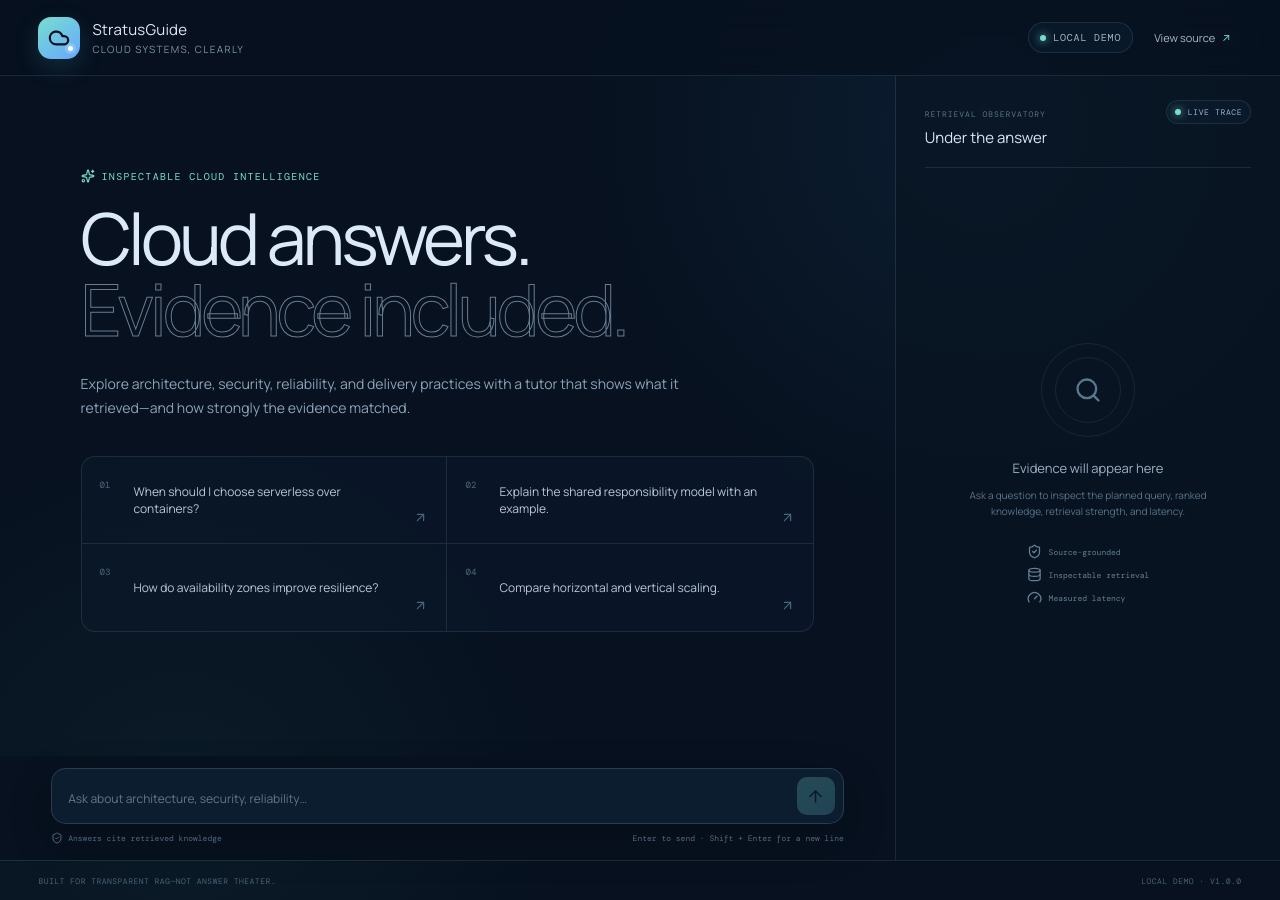
Test: StratusGuide › surfaces a safe API error without losing the conversation
Type "How should I design retries?" into the text box named "cloud computing question" at (428, 799), box x1=68 y1=783 x2=787 y2=815
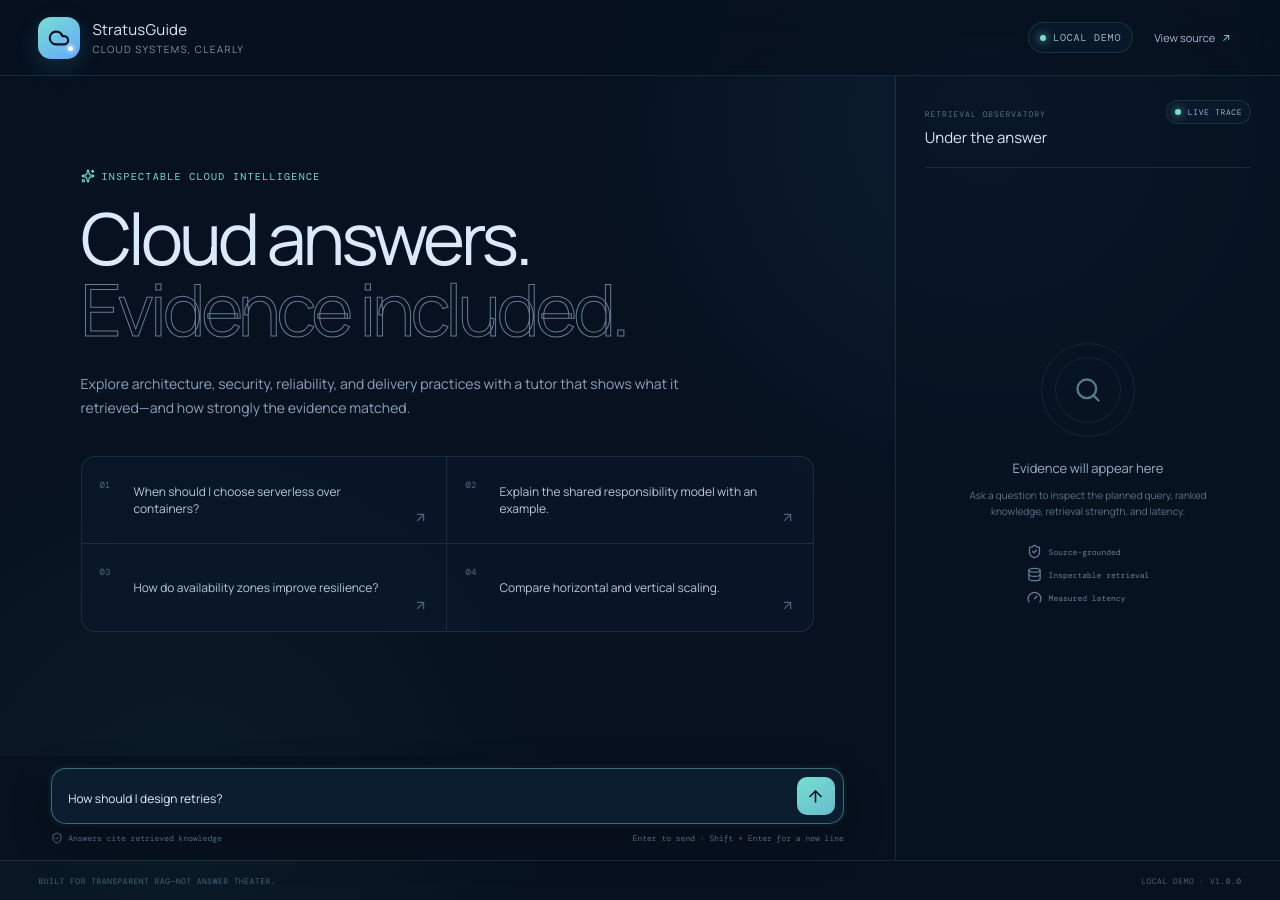
Click the button named "send question" at (816, 796), box x1=797 y1=777 x2=835 y2=815
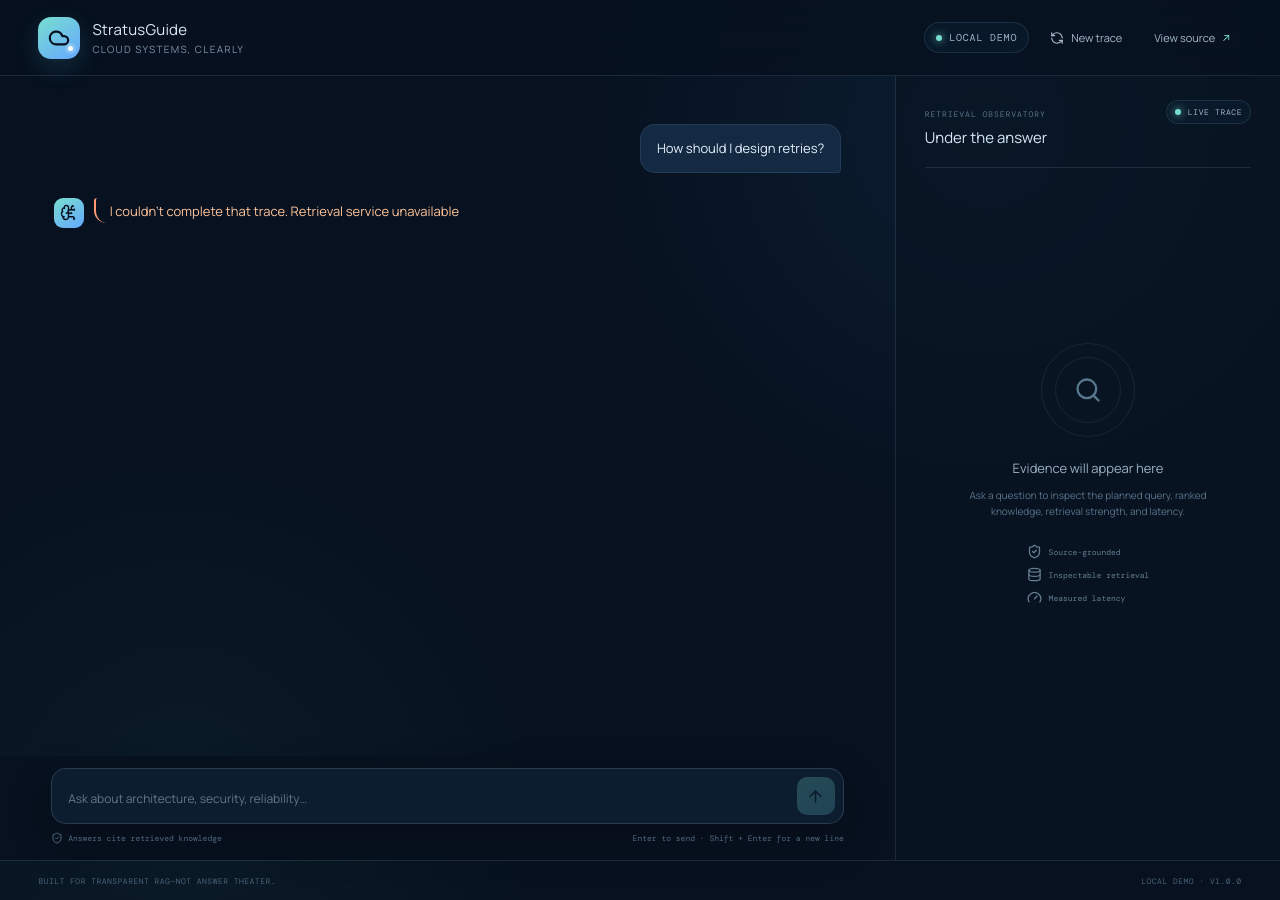
Result: the text "Retrieval service unavailable" is shown at x1=110 y1=202 x2=459 y2=220
Result: the text "How should I design retries?" is shown at x1=657 y1=137 x2=824 y2=160
